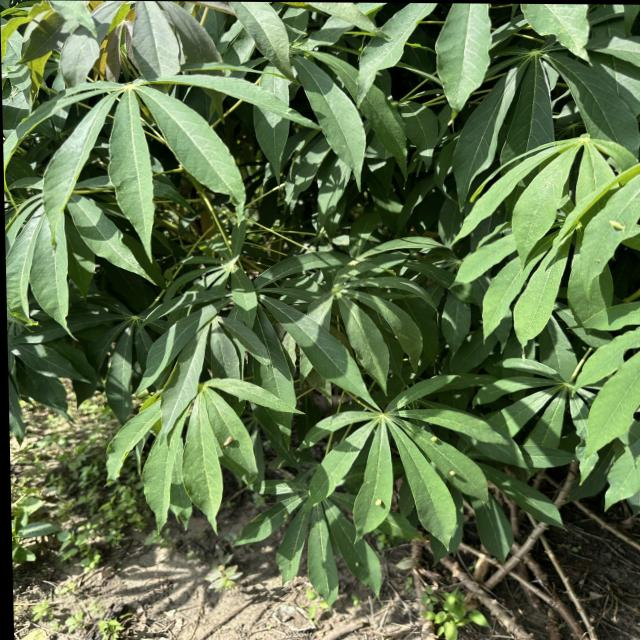Mosca: (607, 216, 628, 234), (221, 434, 238, 450), (429, 431, 441, 449), (445, 466, 460, 480), (372, 496, 385, 510), (352, 559, 363, 569)
